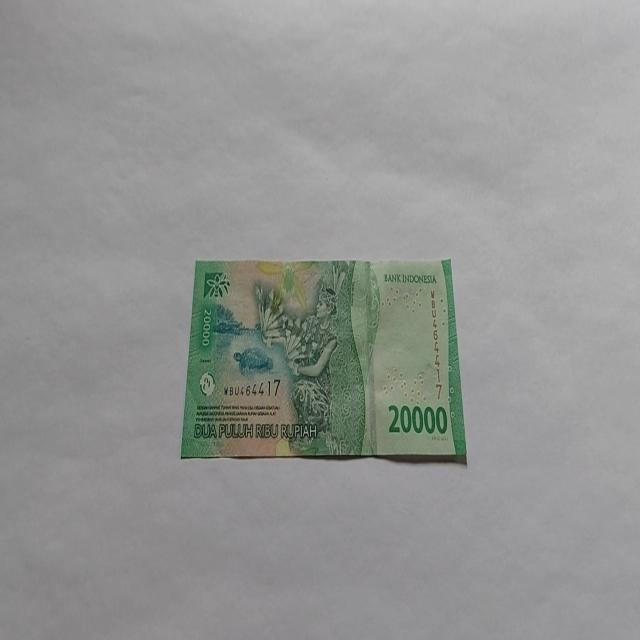dua puluh ribu rupiah: (180, 255, 468, 465)
